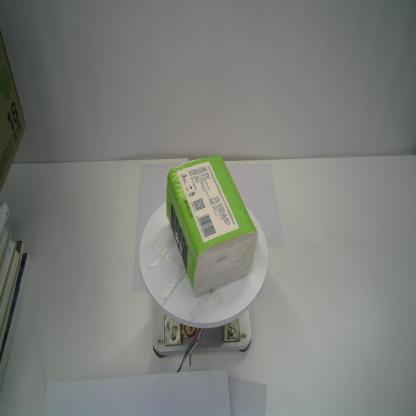Tissue: (165, 153, 259, 298)
